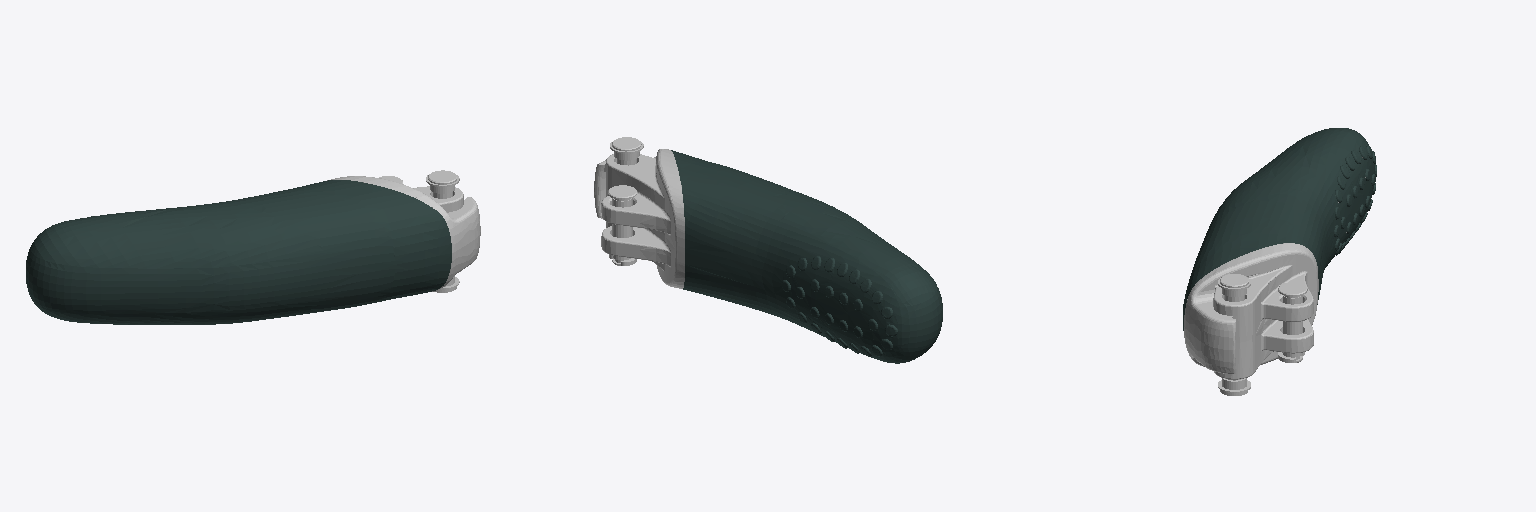
Rendered from index_distal.obj.
3 views of the same model, side by side, from view 1: azimuth 30°, elevation 25°; view 2: azimuth 150°, elevation 25°; view 3: azimuth 270°, elevation 25° (orthographic).
Parts seen in each view (by area): view 1: if_distal_link; view 2: if_distal_link; view 3: if_distal_link.
Boxes of the visible parts, box(x1,y1,x2,y2) form: if_distal_link: box(26, 170, 480, 324); if_distal_link: box(594, 137, 942, 363); if_distal_link: box(1183, 128, 1376, 395).
Size of the model in its own units: 0.0538 by 0.0147 by 0.023.